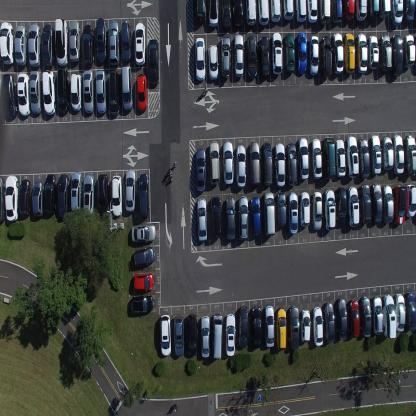car: (54, 17, 68, 66), (4, 176, 18, 223), (3, 73, 17, 119), (42, 70, 56, 115), (248, 140, 261, 188), (0, 20, 14, 64), (28, 23, 41, 67), (17, 72, 30, 116), (383, 294, 396, 338), (108, 69, 120, 116), (346, 135, 359, 178), (208, 140, 220, 186), (263, 191, 275, 237), (121, 66, 133, 112), (194, 36, 206, 82), (196, 197, 208, 242), (222, 140, 234, 185), (224, 196, 236, 241), (274, 142, 286, 187), (323, 135, 335, 180), (138, 172, 150, 217), (95, 69, 107, 114), (14, 24, 27, 65), (210, 194, 222, 238), (286, 142, 298, 186), (404, 134, 416, 178), (324, 187, 336, 231), (69, 19, 81, 63), (108, 21, 120, 65), (148, 38, 159, 86), (56, 68, 68, 112), (42, 23, 54, 67), (186, 313, 198, 357), (237, 305, 249, 349), (246, 35, 258, 79), (44, 174, 57, 214), (96, 17, 107, 64), (82, 24, 94, 67), (30, 70, 42, 113), (323, 301, 335, 344), (335, 297, 347, 340), (195, 147, 206, 193), (238, 195, 249, 241), (262, 141, 273, 187), (120, 20, 132, 62), (348, 186, 360, 228), (97, 172, 109, 214), (83, 69, 94, 114), (58, 172, 69, 217), (212, 314, 223, 359), (233, 33, 244, 78), (347, 300, 360, 338), (250, 196, 262, 237), (235, 144, 246, 188), (125, 168, 136, 212), (160, 314, 171, 358), (225, 313, 236, 357), (288, 305, 299, 349), (392, 33, 403, 77), (131, 223, 155, 243), (404, 291, 416, 331), (380, 33, 392, 73), (83, 173, 94, 216), (276, 308, 287, 351), (220, 35, 231, 78), (296, 32, 307, 75), (332, 31, 343, 74), (18, 179, 31, 215), (311, 138, 322, 180), (111, 174, 122, 216), (134, 245, 155, 267), (251, 306, 262, 348), (312, 305, 323, 347), (320, 36, 331, 78), (356, 32, 367, 74), (131, 294, 154, 314), (335, 137, 346, 178), (359, 138, 370, 179), (393, 134, 404, 175), (336, 186, 347, 227), (394, 184, 405, 225), (71, 170, 82, 211), (173, 316, 184, 357), (360, 296, 371, 337), (344, 32, 355, 73), (403, 34, 416, 68), (370, 134, 381, 174), (360, 184, 371, 224), (70, 72, 81, 112), (264, 304, 274, 348), (394, 292, 405, 332), (284, 32, 295, 72), (32, 181, 44, 217), (207, 43, 219, 79), (298, 137, 308, 180), (288, 191, 298, 234), (135, 22, 145, 65), (200, 315, 210, 358), (259, 35, 269, 78), (272, 31, 282, 74), (382, 184, 393, 223), (136, 73, 147, 112), (372, 296, 383, 335), (372, 182, 382, 224), (132, 272, 154, 291), (312, 190, 322, 231), (309, 35, 319, 76), (276, 192, 287, 228), (368, 34, 379, 70), (382, 136, 393, 171), (299, 191, 310, 226), (405, 183, 416, 218), (220, 0, 232, 30), (390, 0, 404, 25), (300, 309, 310, 343), (232, 0, 244, 28), (318, 0, 331, 25), (208, 0, 219, 29), (245, 0, 257, 26), (403, 0, 415, 25), (258, 0, 269, 27), (342, 0, 355, 22), (367, 0, 380, 22), (194, 0, 206, 23), (295, 0, 306, 23), (307, 0, 318, 23), (331, 0, 342, 23), (270, 0, 281, 22), (0, 177, 5, 223), (283, 0, 294, 20), (356, 0, 367, 20), (379, 0, 390, 19)
